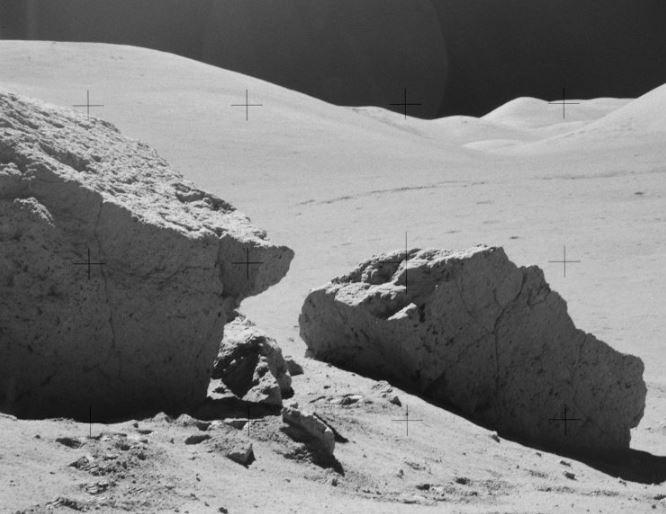rock: (0, 90, 294, 419), (299, 247, 645, 456), (207, 313, 293, 407)
